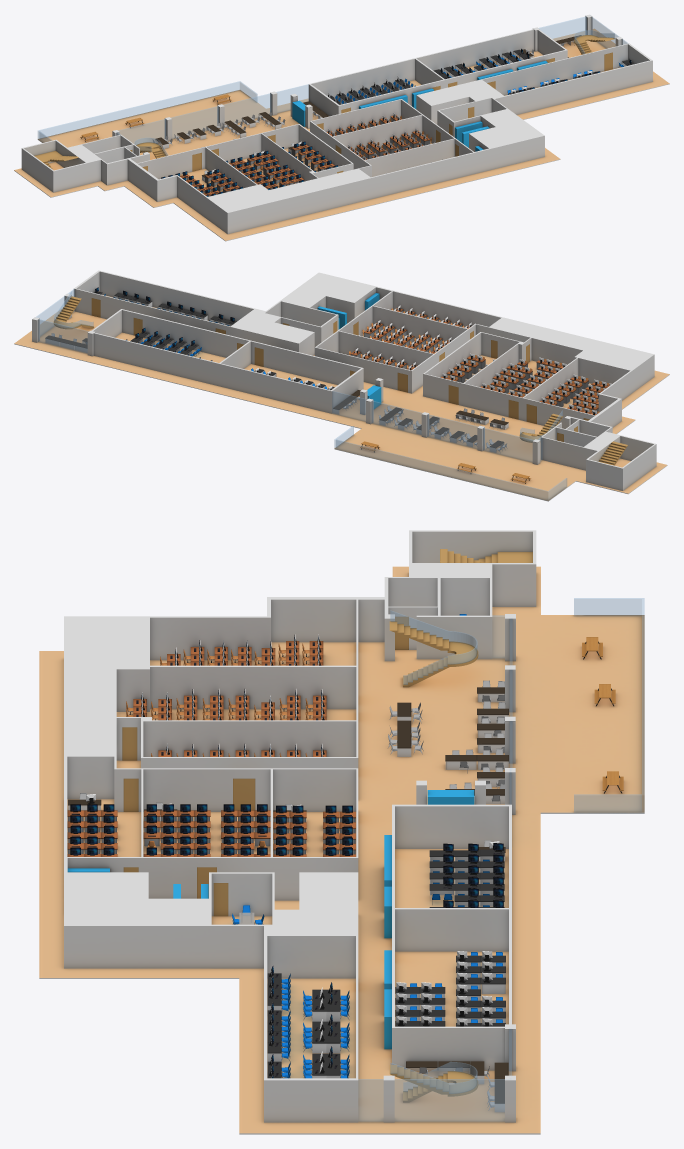
File: COM1_B1.dae
The picture shows the model from 3 angles, top to bottom: view 1: azimuth 30°, elevation 25°; view 2: azimuth 150°, elevation 25°; view 3: azimuth 270°, elevation 25°; orthographic projection. The views are drawn at different scales.
Parts seen in each view (by area): view 1: COM1_Rooms, COM1_Floor, COM1_B1_Furniture.1, COM1_Rooms_TopCap, COM1_Glass_walls, COM1_Balcony, COM1_B1_Lockers, COM1_Pillars, COM1_Doors, COM1_Floor_Side, COM1_Round_stairs, COM1_Transparent_Handrail; view 2: COM1_Rooms, COM1_Floor, COM1_B1_Furniture.1, COM1_Rooms_TopCap, COM1_Glass_walls, COM1_Balcony, COM1_Doors, COM1_Pillars, COM1_Round_stairs, COM1_Floor_Side, COM1_B1_Lockers, COM1_Transparent_Handrail (+1 smaller); view 3: COM1_Floor, COM1_Rooms, COM1_B1_Furniture.1, COM1_Rooms_TopCap, COM1_Glass_walls, COM1_Round_stairs, COM1_Pillars, COM1_Balcony, COM1_Transparent_Handrail, COM1_Doors, COM1_B1_Lockers, COM1_Floor_Side (+1 smaller).
Part boxes in pixels (x1=…): COM1_Rooms: x1=21, y1=30, x2=652, y2=234; COM1_Floor: x1=14, y1=28, x2=669, y2=240; COM1_B1_Furniture.1: x1=80, y1=35, x2=636, y2=196; COM1_Rooms_TopCap: x1=22, y1=28, x2=652, y2=212; COM1_Glass_walls: x1=116, y1=16, x2=628, y2=144; COM1_Balcony: x1=38, y1=81, x2=257, y2=142; COM1_B1_Lockers: x1=292, y1=61, x2=547, y2=151; COM1_Pillars: x1=112, y1=16, x2=622, y2=141; COM1_Doors: x1=130, y1=52, x2=612, y2=173; COM1_Floor_Side: x1=14, y1=84, x2=669, y2=241; COM1_Round_stairs: x1=136, y1=35, x2=614, y2=158; COM1_Transparent_Handrail: x1=134, y1=30, x2=614, y2=155; COM1_Rooms: x1=73, y1=271, x2=656, y2=490; COM1_Floor: x1=14, y1=295, x2=669, y2=500; COM1_B1_Furniture.1: x1=45, y1=287, x2=611, y2=483; COM1_Rooms_TopCap: x1=74, y1=270, x2=655, y2=468; COM1_Glass_walls: x1=36, y1=289, x2=542, y2=462; COM1_Balcony: x1=334, y1=426, x2=566, y2=500; COM1_Doors: x1=91, y1=298, x2=589, y2=441; COM1_Pillars: x1=32, y1=295, x2=540, y2=464; COM1_Round_stairs: x1=53, y1=296, x2=562, y2=442; COM1_Floor_Side: x1=14, y1=343, x2=669, y2=501; COM1_B1_Lockers: x1=317, y1=293, x2=381, y2=408; COM1_Transparent_Handrail: x1=54, y1=291, x2=562, y2=440; COM1_Floor: x1=39, y1=566, x2=644, y2=1133; COM1_Rooms: x1=64, y1=531, x2=536, y2=1122; COM1_B1_Furniture.1: x1=67, y1=614, x2=623, y2=1112; COM1_Rooms_TopCap: x1=64, y1=530, x2=536, y2=1080; COM1_Glass_walls: x1=358, y1=615, x2=512, y2=1121; COM1_Round_stairs: x1=389, y1=621, x2=478, y2=1102; COM1_Pillars: x1=383, y1=618, x2=515, y2=1122; COM1_Balcony: x1=574, y1=598, x2=644, y2=813; COM1_Transparent_Handrail: x1=390, y1=610, x2=477, y2=1093; COM1_Doors: x1=122, y1=616, x2=408, y2=916; COM1_B1_Lockers: x1=67, y1=790, x2=474, y2=1049; COM1_Floor_Side: x1=39, y1=812, x2=644, y2=1134.
Size of the model in its own units: 95.04 by 4.29 by 42.91.
